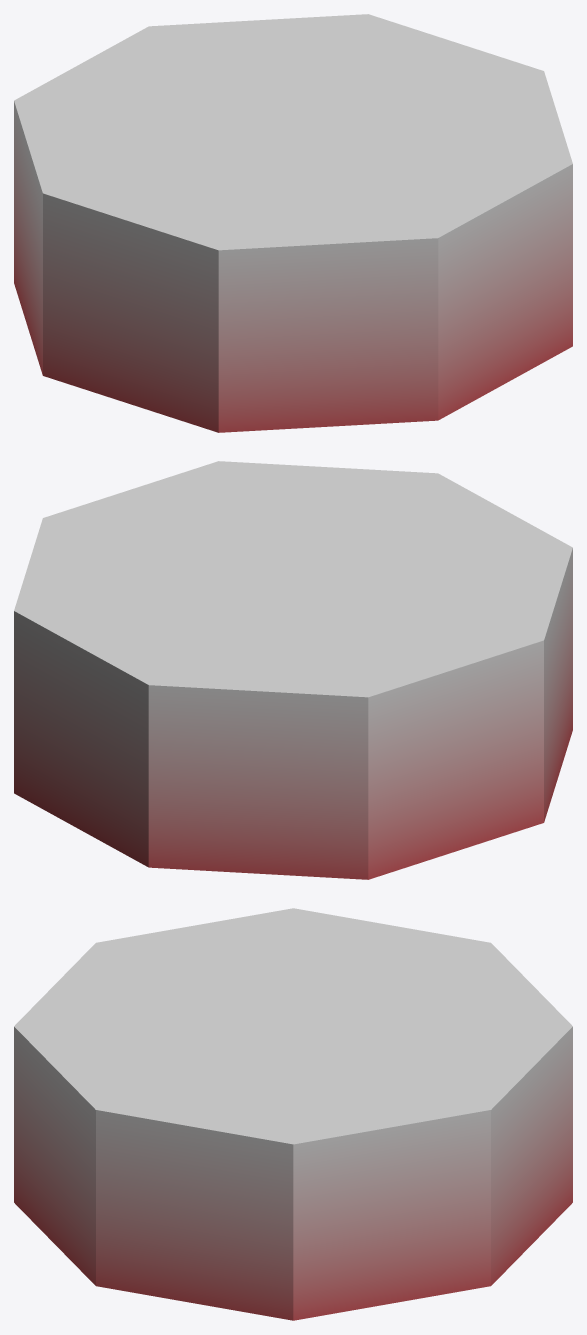
The model's file is SM_SprinklesBush.fbx.
The picture shows the model from 3 angles, top to bottom: view 1: azimuth 30°, elevation 25°; view 2: azimuth 150°, elevation 25°; view 3: azimuth 270°, elevation 25°; orthographic projection. The views are drawn at different scales.
Visible parts, largest first — view 1: SprinkleBush; view 2: SprinkleBush; view 3: SprinkleBush.
Boxes of the visible parts, bbox=[...] form: SprinkleBush: bbox=[14, 14, 572, 432]; SprinkleBush: bbox=[14, 461, 572, 879]; SprinkleBush: bbox=[14, 908, 572, 1320].
Size of the model in its own units: 200 by 69.59 by 200.
